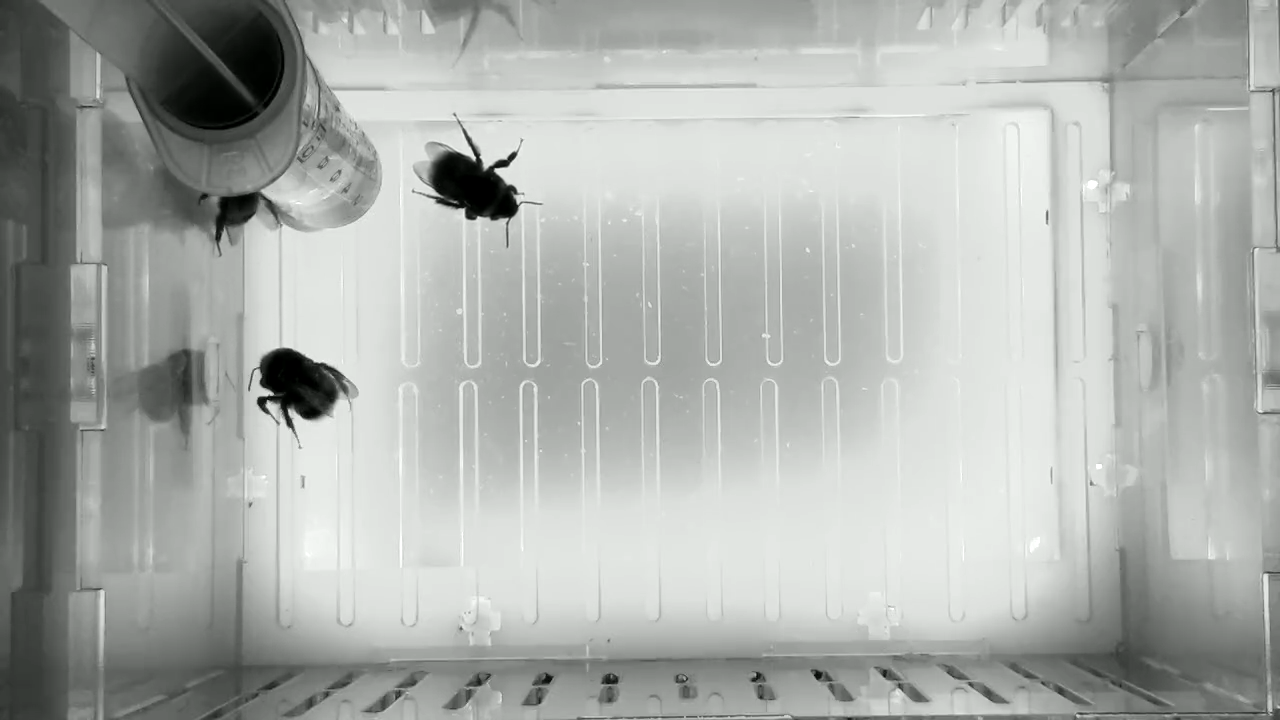bee_alive: (403, 106, 546, 250), (191, 182, 289, 259)
bee_dead: (242, 345, 363, 453)
feeder: (250, 67, 385, 237)
